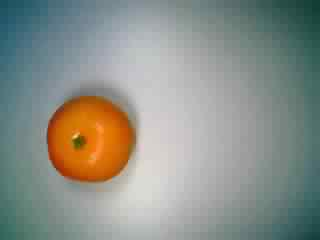orange: (42, 91, 138, 187)
